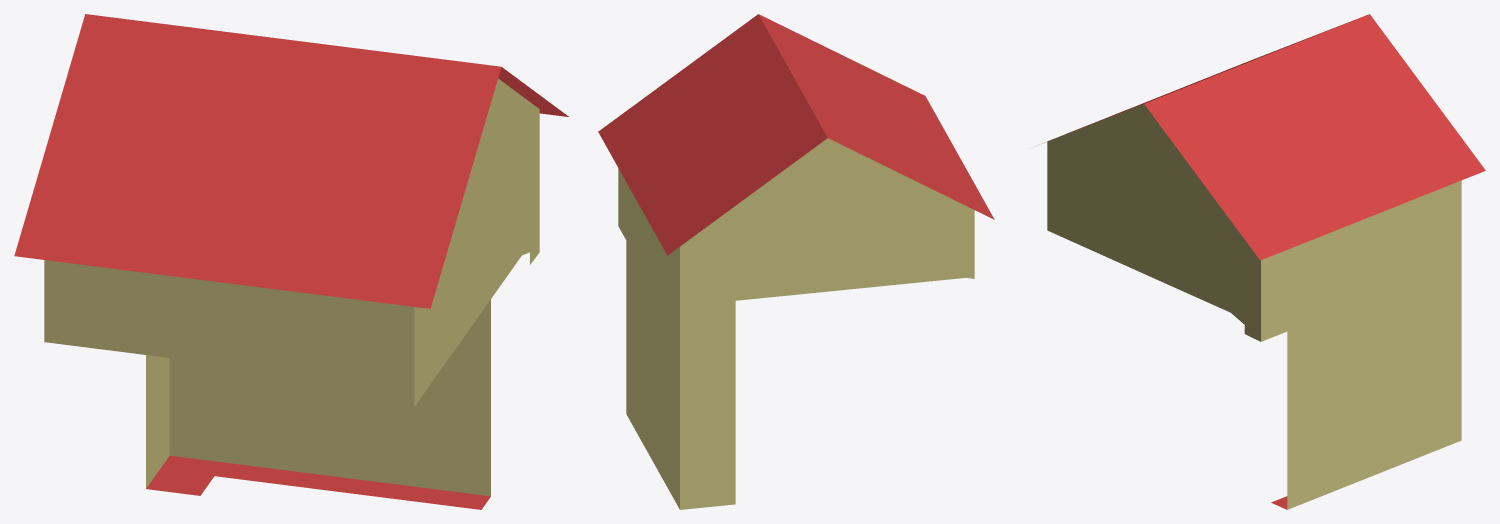
3 renders of one model, left to right at view 1: azimuth 30°, elevation 25°; view 2: azimuth 150°, elevation 25°; view 3: azimuth 270°, elevation 25°, orthographic. The views are drawn at different scales.
Size of the model in its own units: 13.46 by 13.42 by 11.99.
